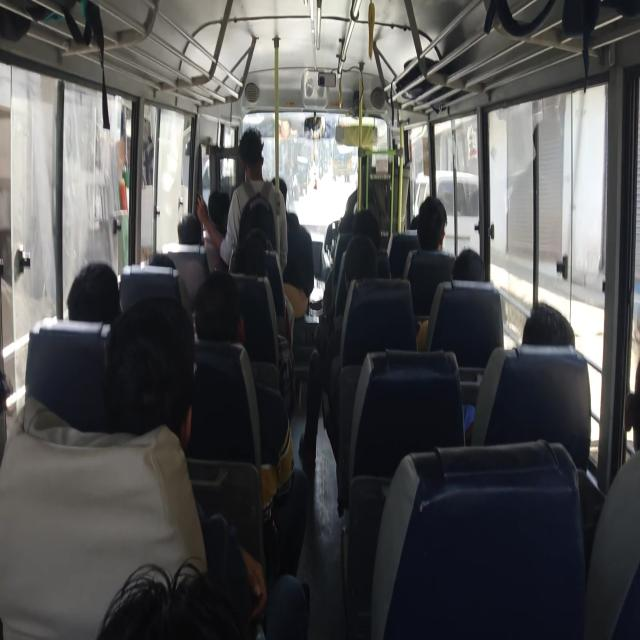person: (482, 300, 588, 476), (586, 348, 640, 632), (101, 296, 195, 442), (93, 556, 254, 637), (417, 239, 486, 355), (282, 186, 317, 370), (405, 198, 455, 320), (230, 118, 279, 233), (192, 268, 242, 346), (66, 262, 122, 326), (168, 210, 210, 285), (521, 302, 576, 348), (340, 231, 379, 293), (416, 196, 447, 252), (351, 208, 381, 250), (452, 247, 487, 282), (207, 190, 231, 236), (148, 253, 178, 271), (410, 214, 420, 230)
